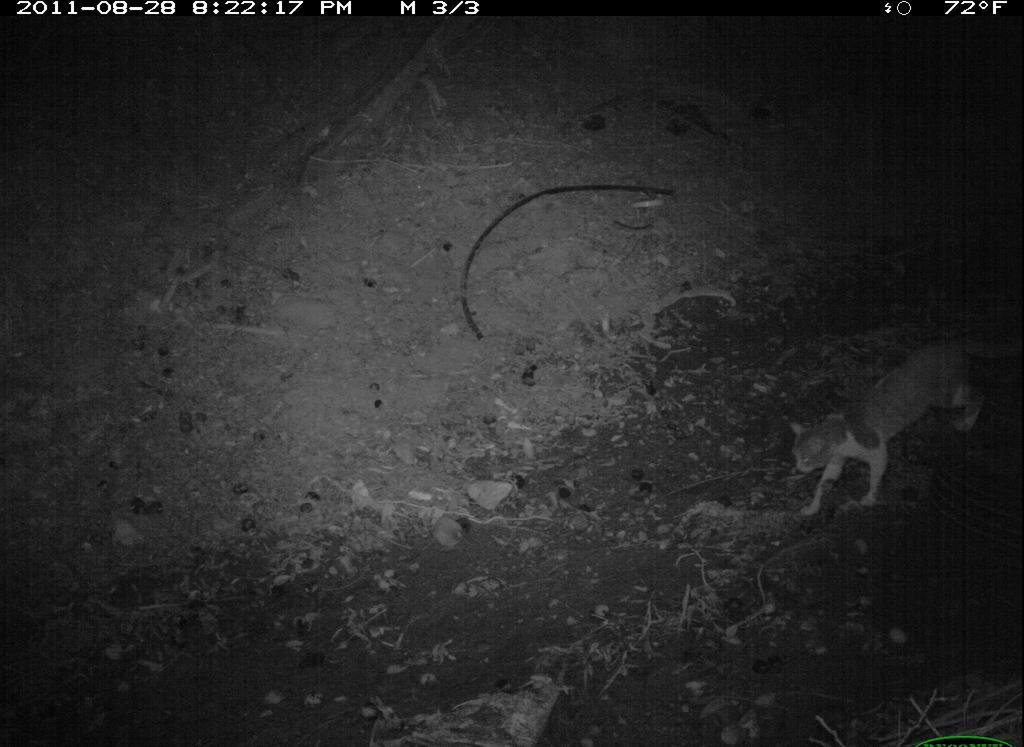cat: (777, 329, 1023, 521)
